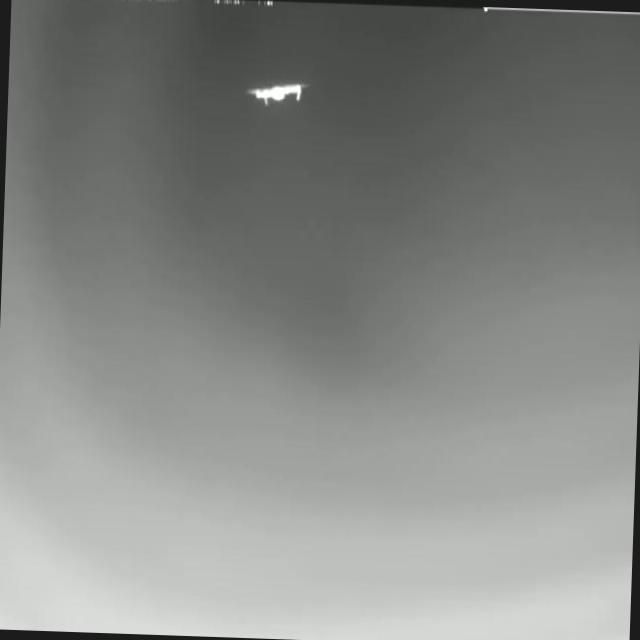DRONE: (243, 76, 314, 107)
